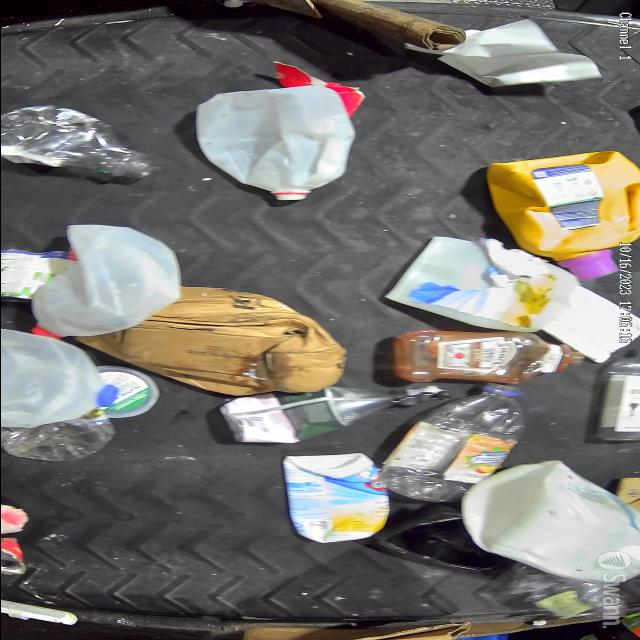milk_jug: (470, 458, 637, 586), (194, 86, 356, 202), (36, 220, 185, 336), (0, 333, 120, 427)
non_white_jug: (490, 144, 640, 280)
plastic_bottle: (389, 376, 535, 498), (0, 106, 159, 176)
